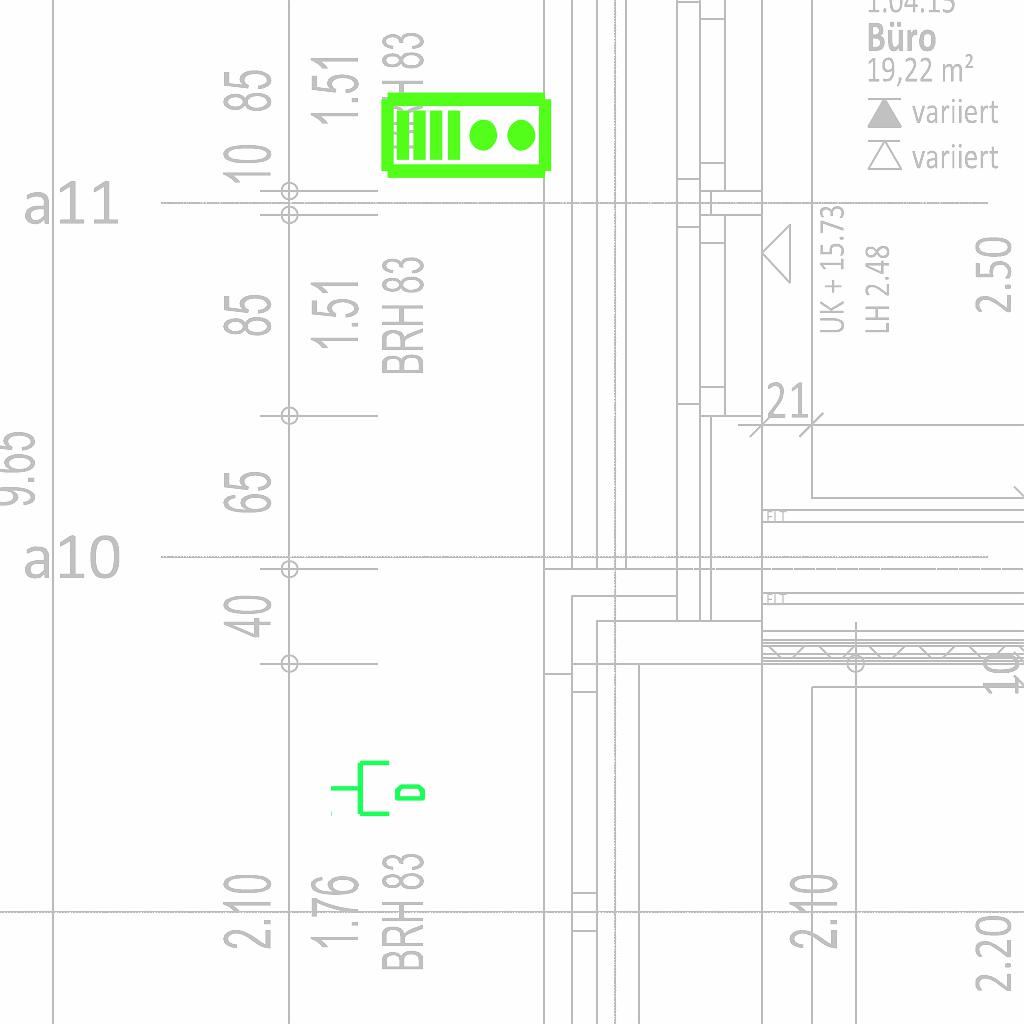Datenanschluss_einfach: (328, 752, 428, 821)
Gegensprechanlage_mit_Video: (379, 86, 555, 181)
